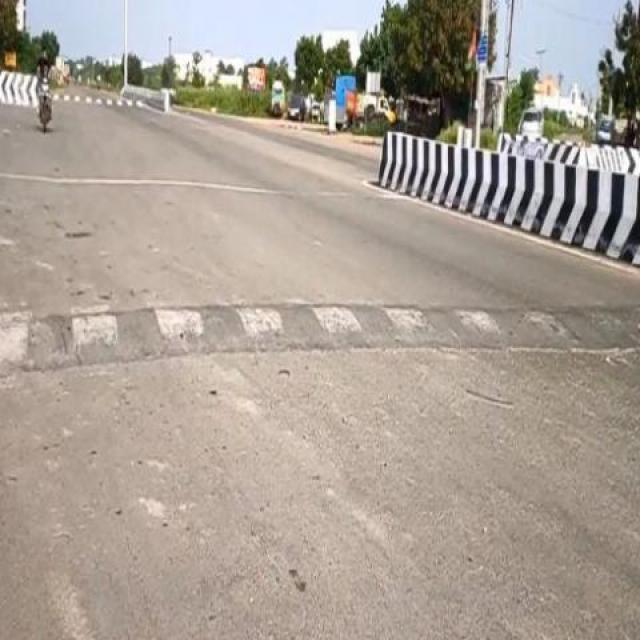Speed Bump: (1, 298, 639, 392), (55, 92, 145, 110)
